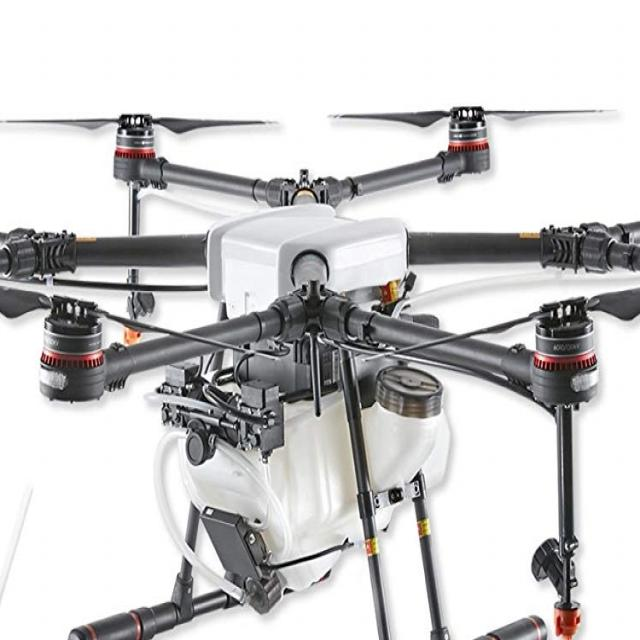drone: (0, 74, 640, 586)
